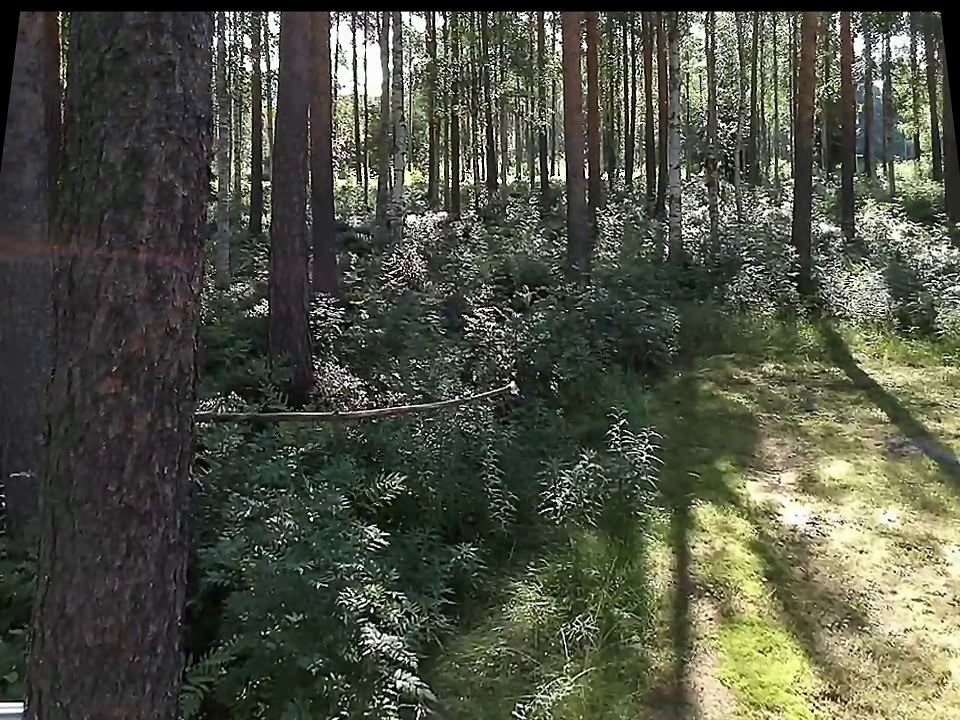branch: (196, 381, 507, 428)
